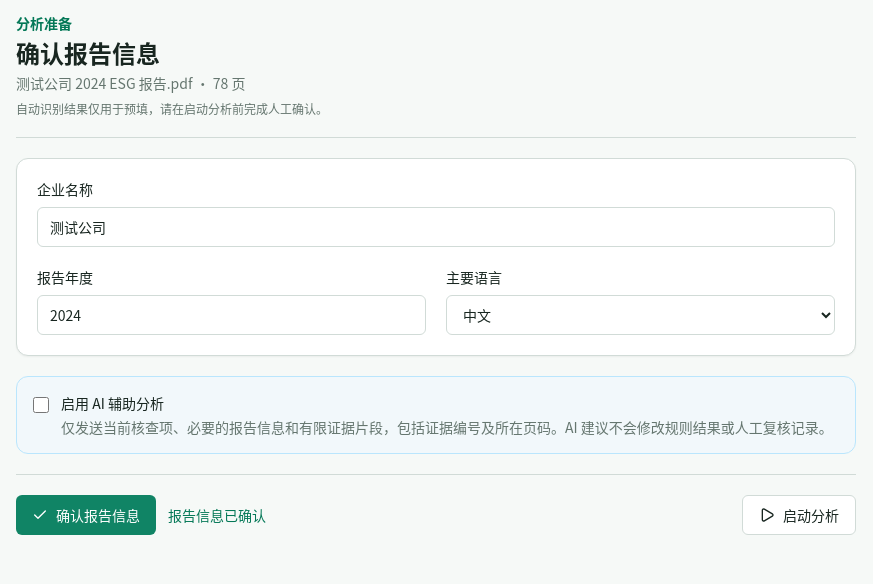
Test: ReportMetadataConfirmation › shows a safe error when analysis cannot start
What coordinates should you click on to do the following:
click the button "启动分析"
I would click on:
 (799, 515)
Its box is [742, 495, 856, 535].
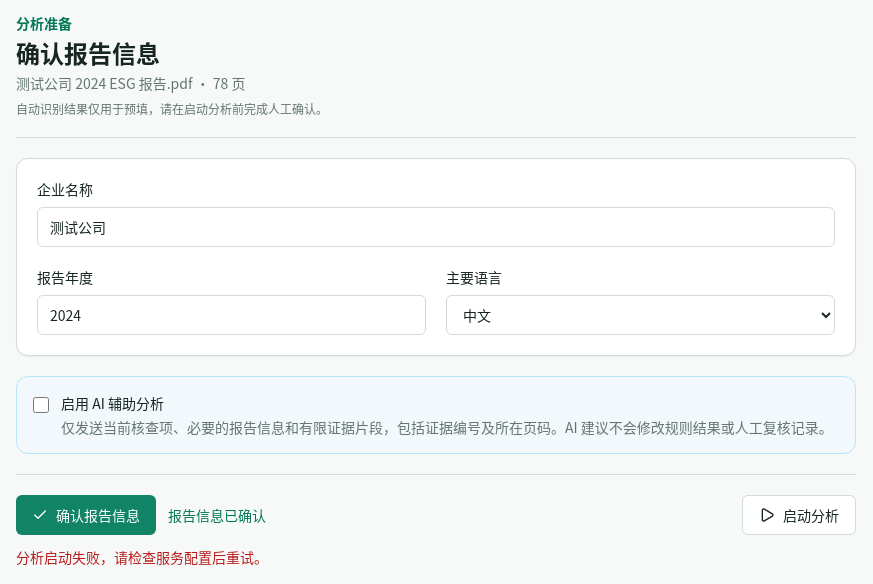
Expected: the text "分析启动失败，请检查服务配置后重试。" is shown, [16, 547, 268, 567]
